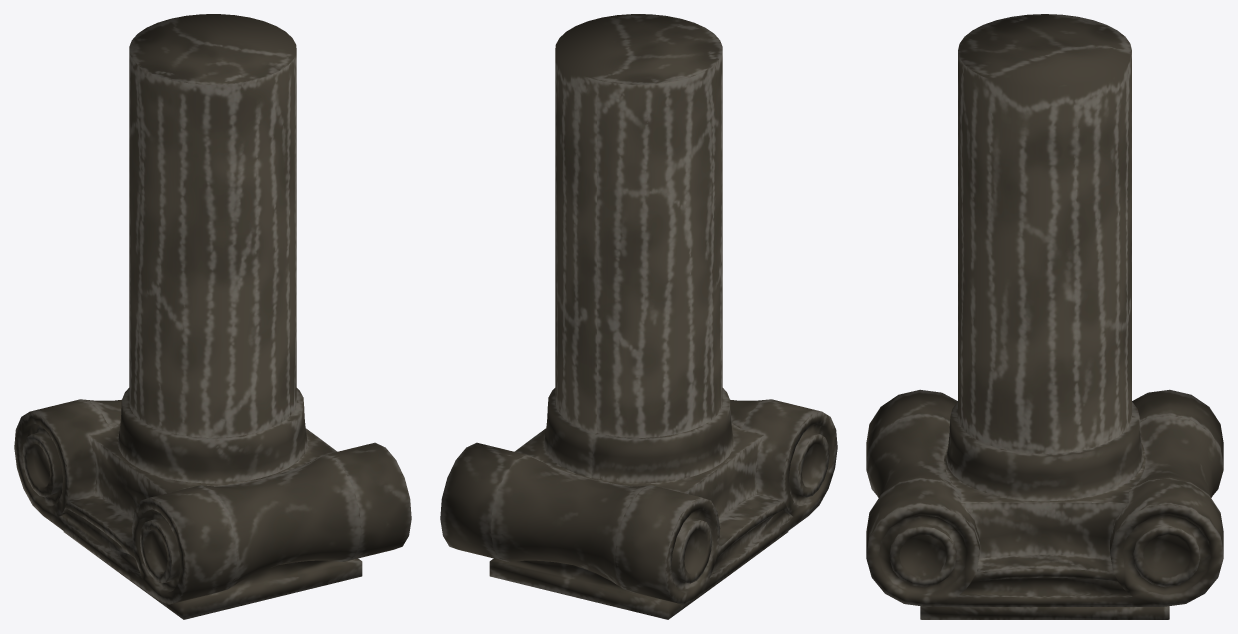
File: columna 2.fbx
3 views of the same model, side by side, from view 1: azimuth 30°, elevation 25°; view 2: azimuth 150°, elevation 25°; view 3: azimuth 270°, elevation 25° (orthographic). The views are drawn at different scales.
Visible parts, largest first — view 1: columna 2; view 2: columna 2; view 3: columna 2.
Boxes of the visible parts, bbox=[...] form: columna 2: bbox=[14, 14, 411, 619]; columna 2: bbox=[440, 14, 837, 619]; columna 2: bbox=[866, 14, 1223, 619].
Bounding box in the file's own units: 52.76 × 110 × 68.06.
1 material, 1 textured.
